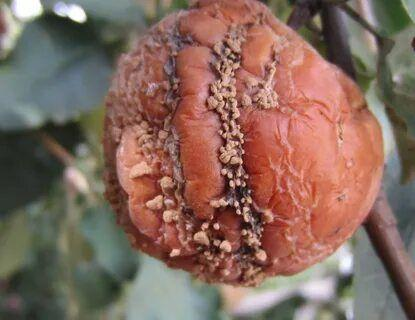Apple: (106, 4, 379, 287)
